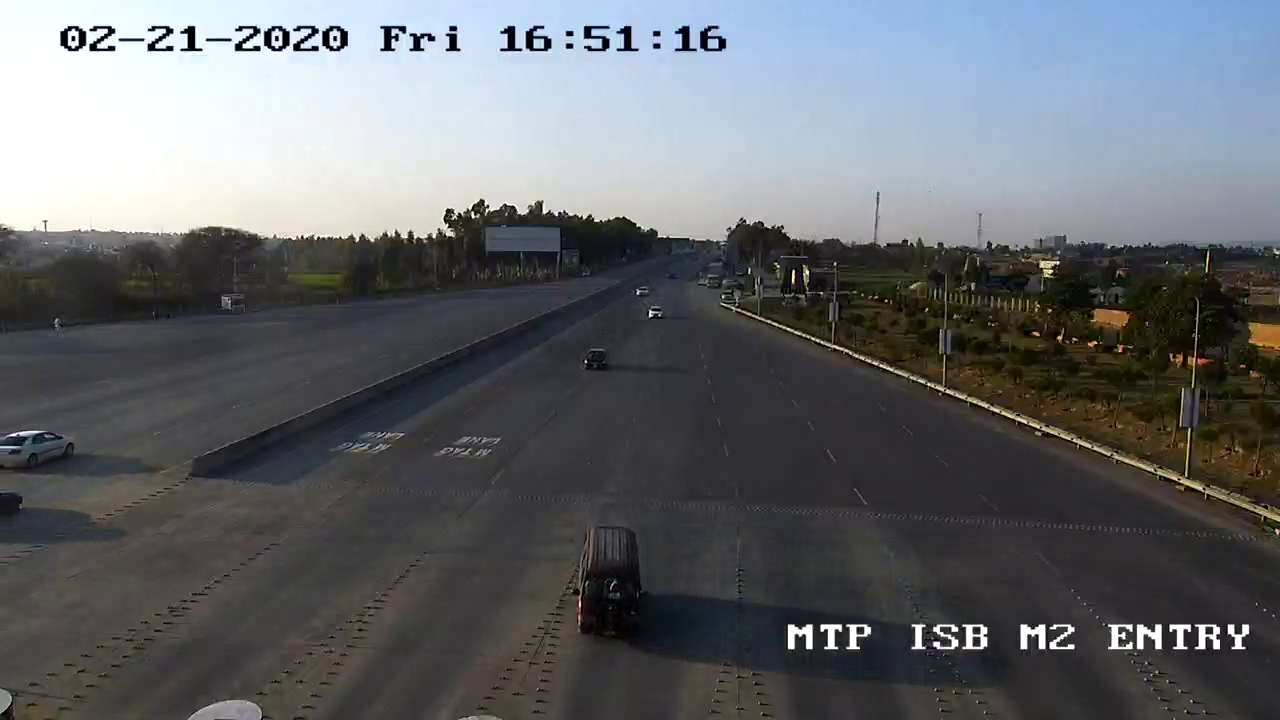f2: (564, 510, 654, 647)
